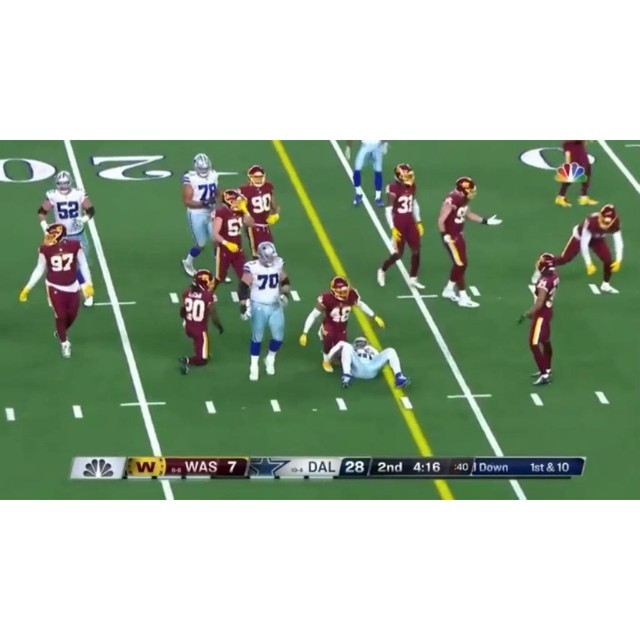american-football-player: (20, 224, 92, 359), (300, 276, 382, 385), (436, 177, 502, 306), (237, 242, 294, 380), (375, 164, 427, 290), (555, 203, 624, 296), (517, 254, 562, 384), (179, 154, 221, 277), (177, 270, 224, 375), (209, 190, 254, 294), (332, 336, 412, 390), (37, 170, 94, 244), (238, 165, 282, 257), (553, 141, 598, 208), (348, 142, 390, 208)
